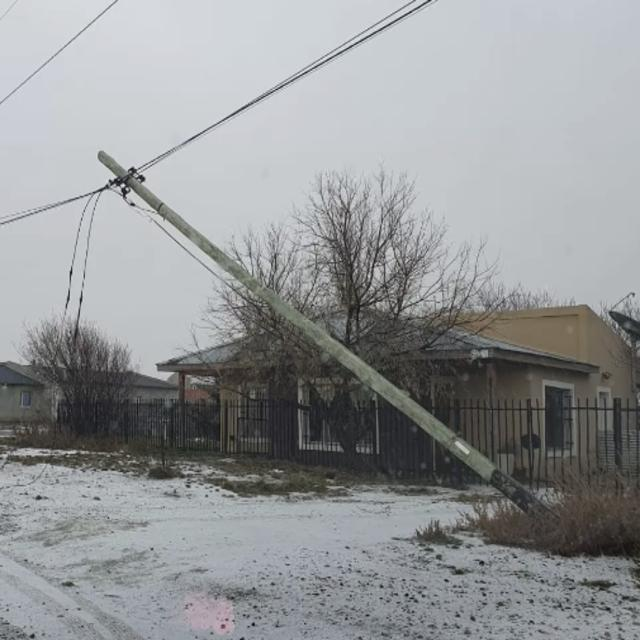Inclined Pole: (100, 140, 551, 517)
